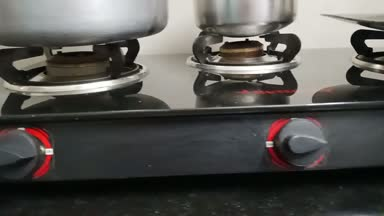flame_gas_off: (204, 33, 331, 168), (1, 43, 122, 181)
